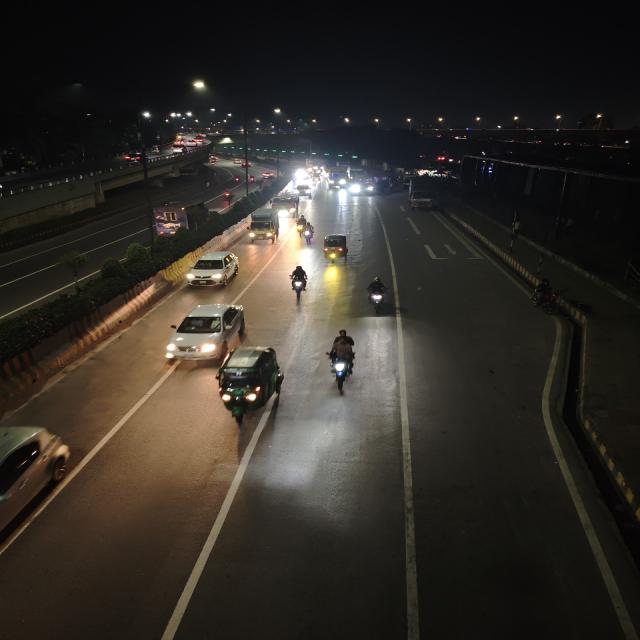bus: (347, 161, 376, 197), (324, 164, 347, 190)
car: (160, 301, 250, 367), (184, 248, 243, 290), (174, 164, 199, 179), (295, 184, 314, 198), (124, 154, 142, 164), (232, 159, 245, 167), (171, 146, 184, 154), (191, 138, 204, 144)
cng: (214, 343, 289, 425), (320, 232, 350, 264)
motorcycle: (321, 326, 364, 394), (529, 278, 565, 317), (364, 276, 391, 316), (287, 263, 311, 299), (293, 216, 316, 244), (221, 187, 236, 201), (231, 174, 241, 184)
pickup_van: (155, 203, 206, 233), (271, 193, 301, 217)
truck: (245, 208, 280, 246), (406, 176, 442, 212), (246, 208, 280, 246)
